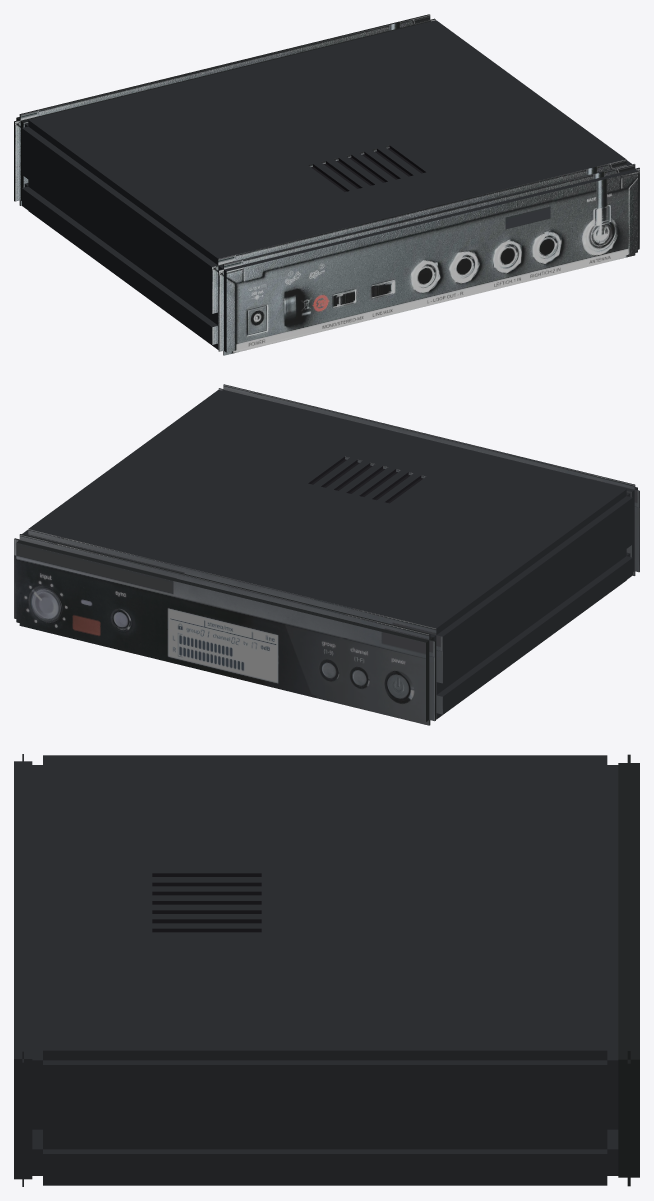
The model's file is shure-psm-300.glb.
The picture shows the model from 3 angles, top to bottom: view 1: azimuth 30°, elevation 25°; view 2: azimuth 150°, elevation 25°; view 3: azimuth 270°, elevation 25°; orthographic projection. The views are drawn at different scales.
Parts seen in each view (by area): view 1: shure-psm-300-body; view 2: shure-psm-300-body; view 3: shure-psm-300-body.
Part boxes in pixels (x1,y1,x2,y2): shure-psm-300-body: [14, 14, 639, 355]; shure-psm-300-body: [14, 384, 639, 725]; shure-psm-300-body: [14, 754, 639, 1186].
Size of the model in its own units: 0.198 by 0.043 by 0.172.
1 material, 1 textured.
